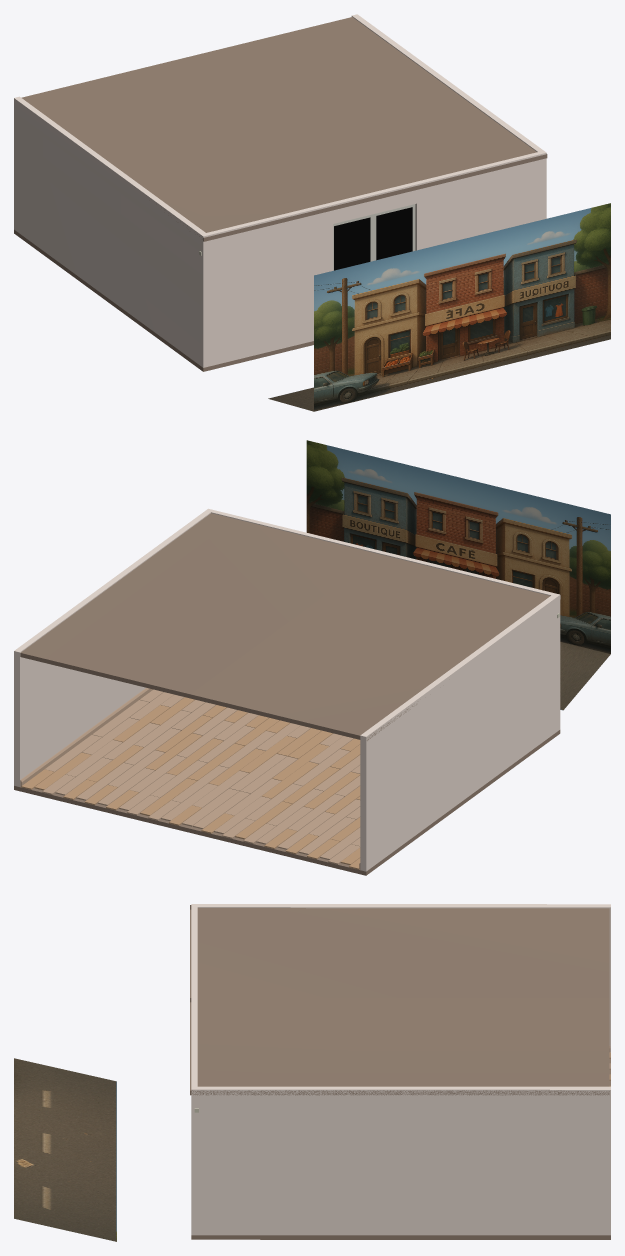
The model's file is StoreScene6868.fbx.
The picture shows the model from 3 angles, top to bottom: view 1: azimuth 30°, elevation 25°; view 2: azimuth 150°, elevation 25°; view 3: azimuth 270°, elevation 25°; orthographic projection. The views are drawn at different scales.
Visible parts, largest first — view 1: _16__1__003, _29_003_1, Plane_1, Plane, Plane_001; view 2: _16__1__003, _29_003_1, _212_005, Plane_1; view 3: _16__1__003, _29_003_1, Plane_1.
Boxes of the visible parts, x1,y1,x2,y2 form: _16__1__003: (14, 17, 547, 371); _29_003_1: (14, 14, 546, 367); Plane_1: (268, 203, 610, 411); Plane: (376, 207, 412, 260); Plane_001: (334, 217, 370, 270); _16__1__003: (14, 513, 560, 875); _29_003_1: (14, 508, 560, 871); _212_005: (20, 688, 360, 869); Plane_1: (306, 440, 610, 710); _16__1__003: (190, 905, 610, 1239); _29_003_1: (191, 904, 610, 1235); Plane_1: (14, 1058, 116, 1241).
Bounding box in the file's own units: 4631 × 2017 × 6264.
